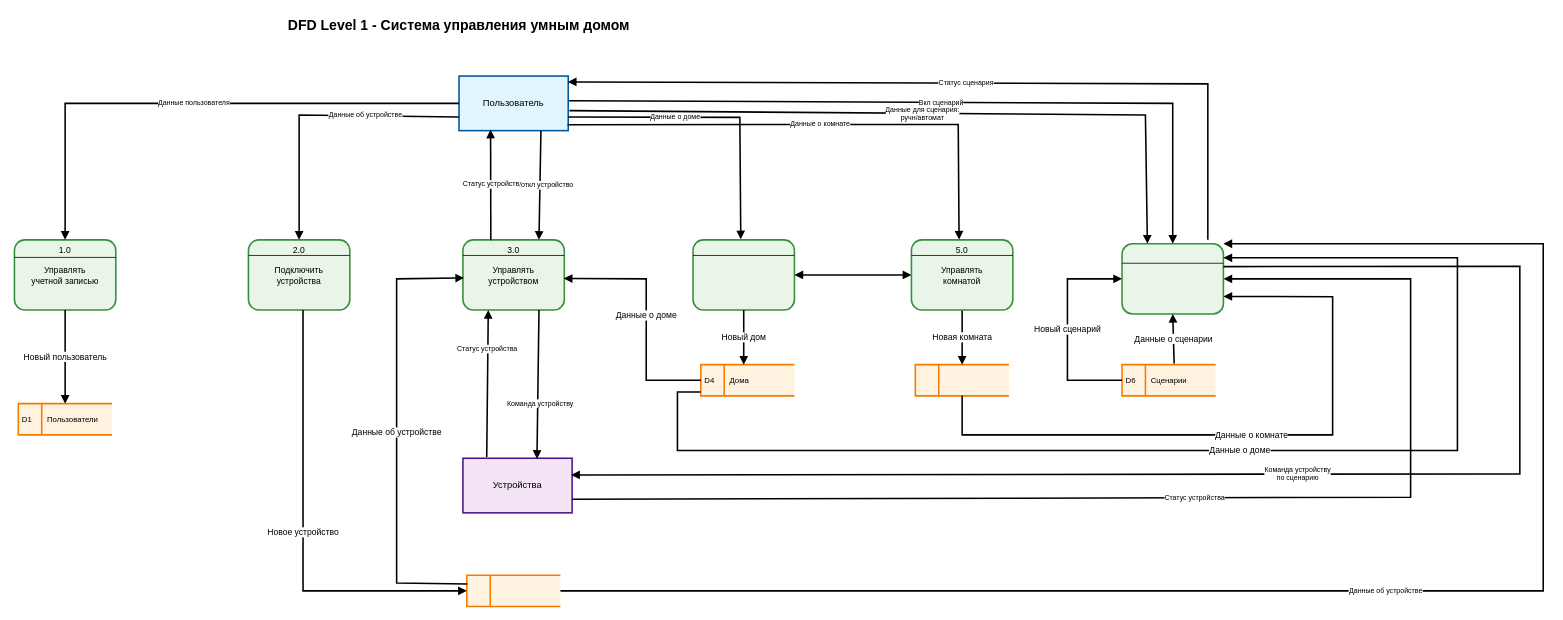
Image size: 1563x620. Some labels were removed from this diagram. The box of each missing label's shape, as (x1, y1, x2, y2) in pixels:
4.0 Управлять домом: (692, 239, 795, 310)
6.0 Управлять сценарием: (1121, 243, 1224, 314)
D3 Устройства: (466, 574, 561, 607)
D5 Комнаты: (914, 363, 1009, 396)
